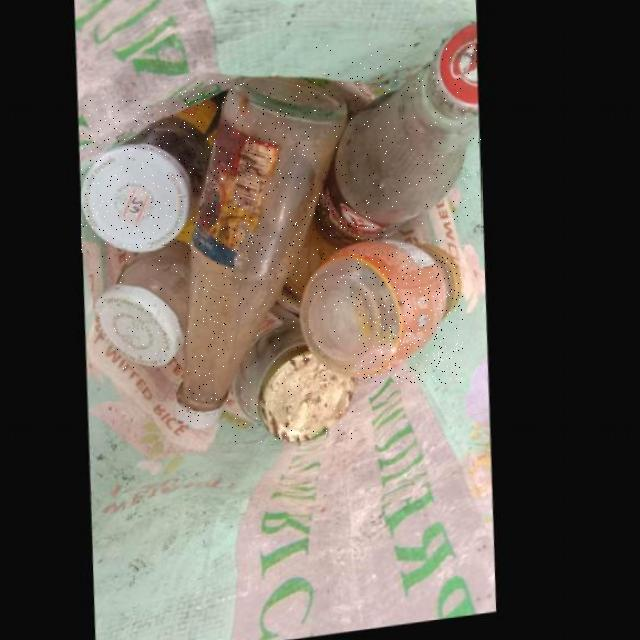glass: (179, 79, 350, 430), (316, 44, 482, 254), (304, 247, 463, 384), (82, 100, 223, 253), (236, 307, 361, 448), (97, 246, 191, 369)
